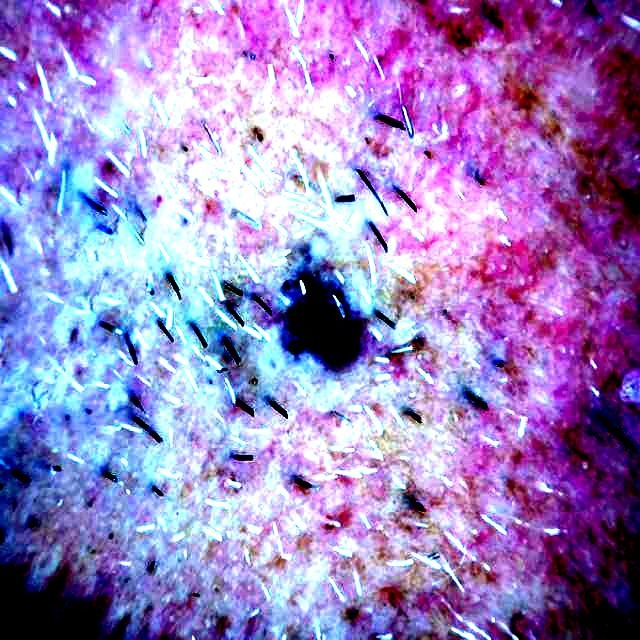BCC: (271, 213, 386, 378), (317, 380, 366, 412)
